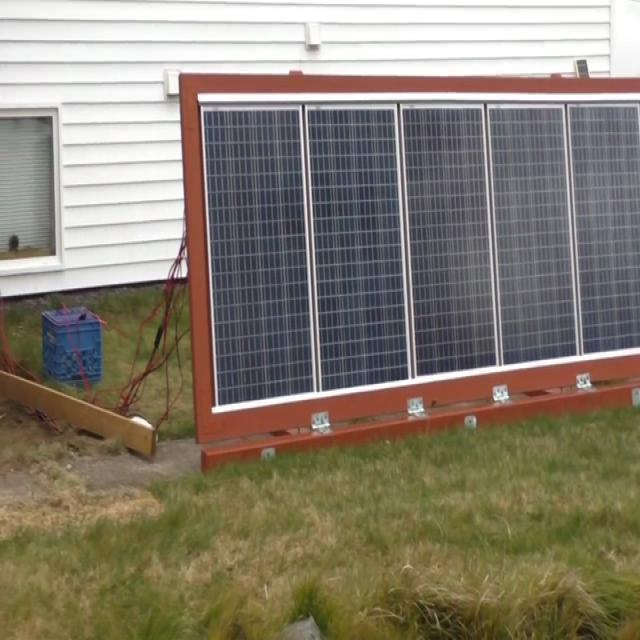Normal Solar Panel: (204, 109, 312, 405), (310, 109, 408, 389), (405, 109, 497, 376), (491, 109, 578, 361), (571, 105, 640, 351)
